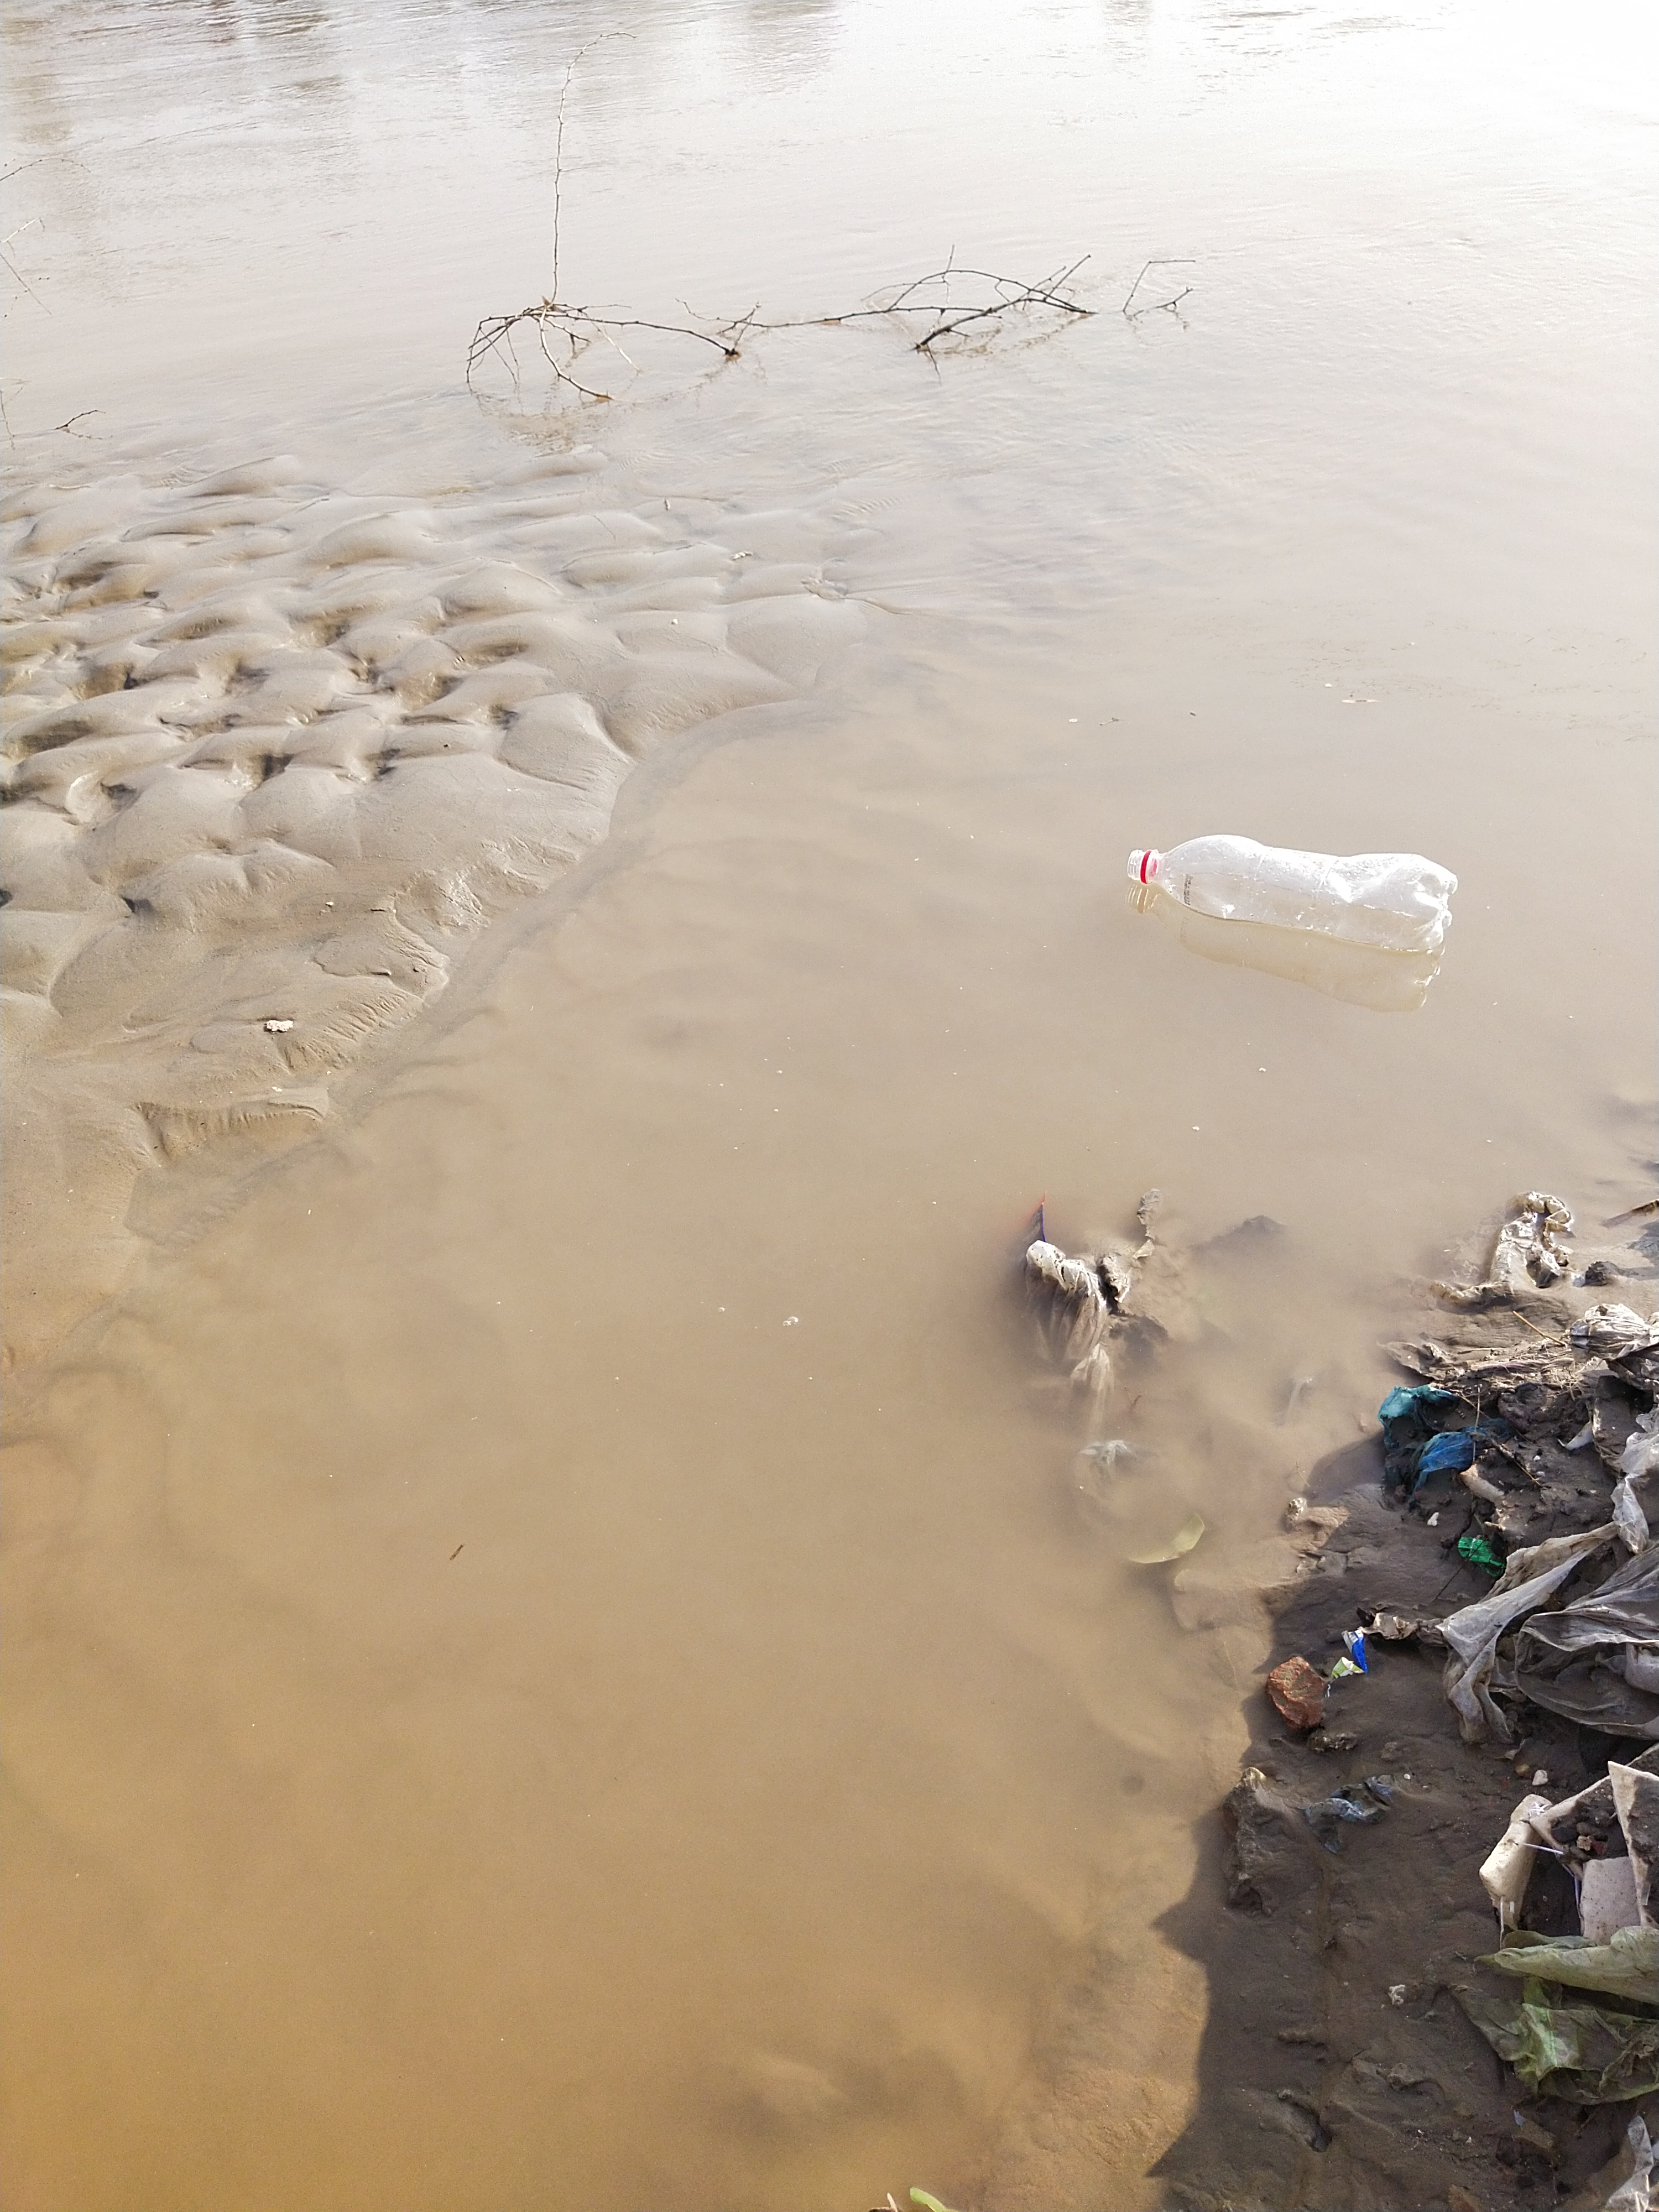Plastic Bottle: (1126, 834, 1457, 953)
